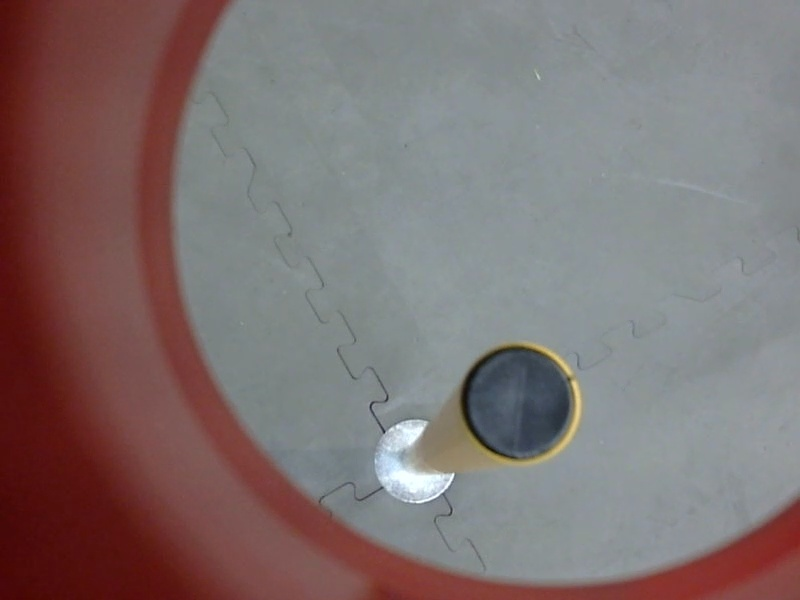tip: (454, 329, 585, 472)
